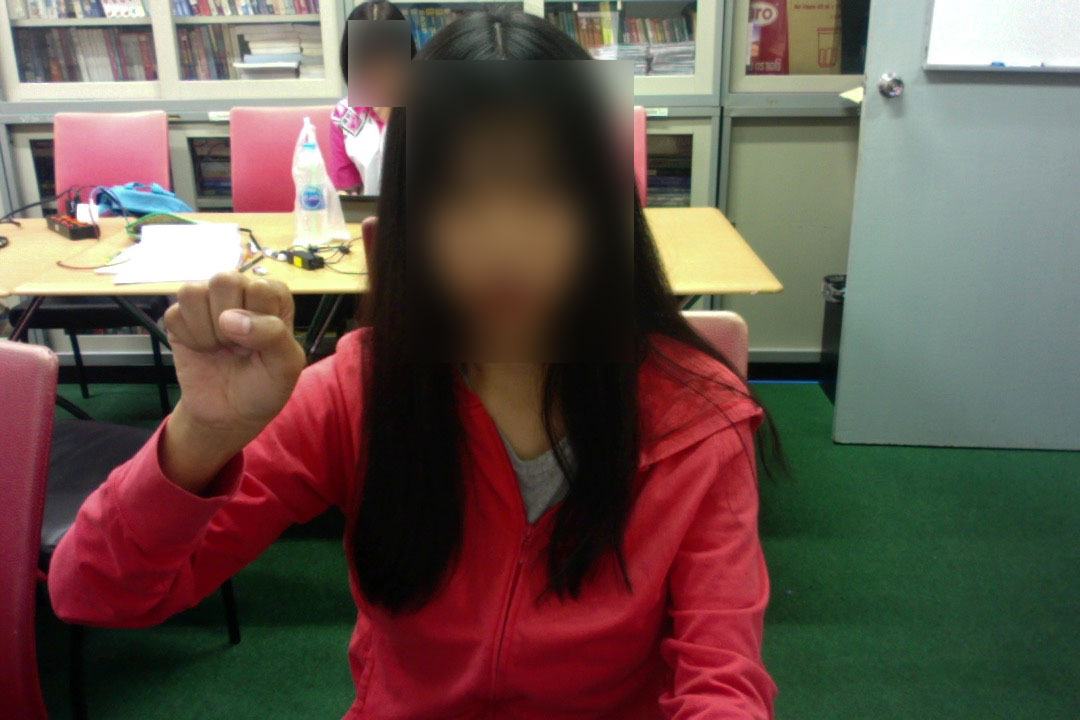sor: (157, 265, 312, 443)
